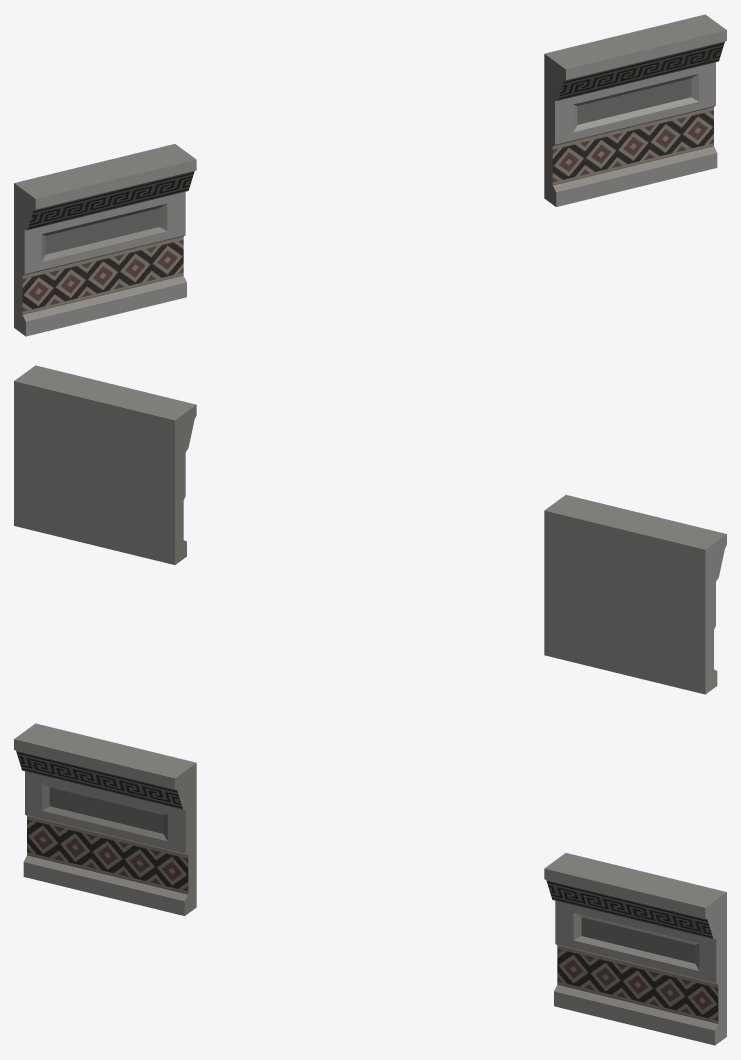
The model's file is ancient_SM_Bld_Trim_05_Window_01.gltf.
3 views of the same model, one above another, from view 1: azimuth 30°, elevation 25°; view 2: azimuth 150°, elevation 25°; view 3: azimuth 330°, elevation 25° (orthographic).
Parts seen in each view (by area): view 1: SM_Bld_Trim_05_Window_01; view 2: SM_Bld_Trim_05_Window_01; view 3: SM_Bld_Trim_05_Window_01.
Boxes of the visible parts, left/top/right/bottom form: SM_Bld_Trim_05_Window_01: left=14, top=14, right=726, bottom=336; SM_Bld_Trim_05_Window_01: left=14, top=365, right=726, bottom=694; SM_Bld_Trim_05_Window_01: left=14, top=723, right=726, bottom=1045.
Bounding box in the file's own units: 2.5 × 0.5001 × 0.135.
Materials: 1 (1 with a texture image).
